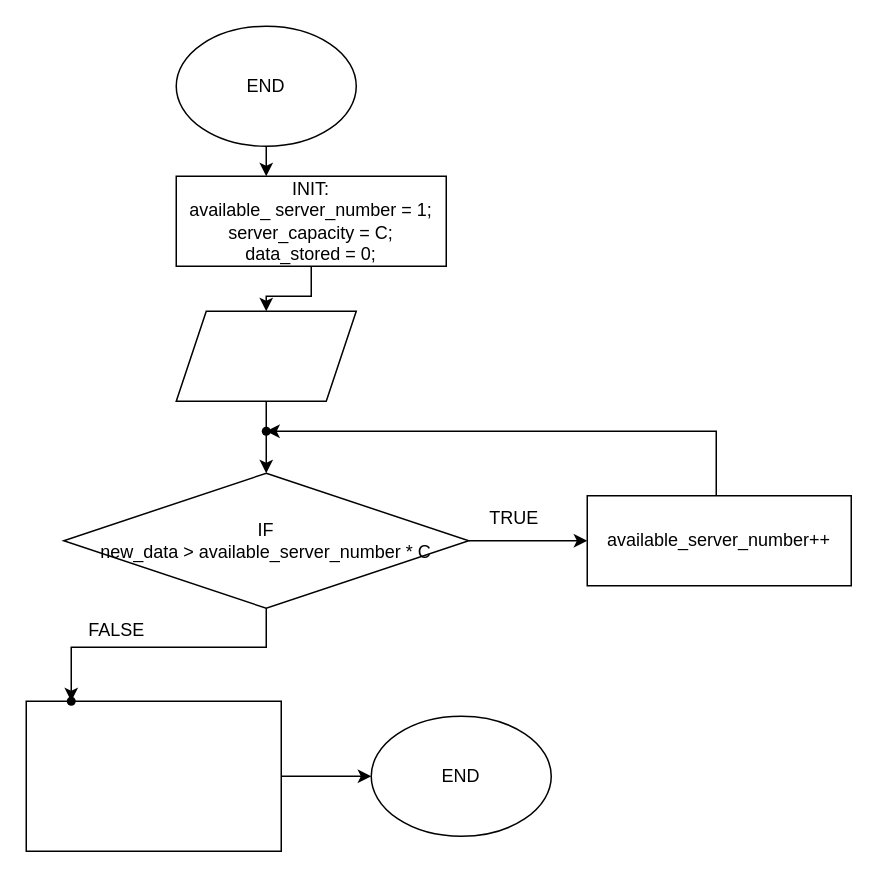
Some shapes in this 878 by 878 pixel diagram are drawn without their labels. Here are the shapes that lost their labels. From the top down, the box of each, then its label:
(175, 310, 356, 401): new_data
(25, 700, 281, 851): WRITE new_data; available_server_number =0;
